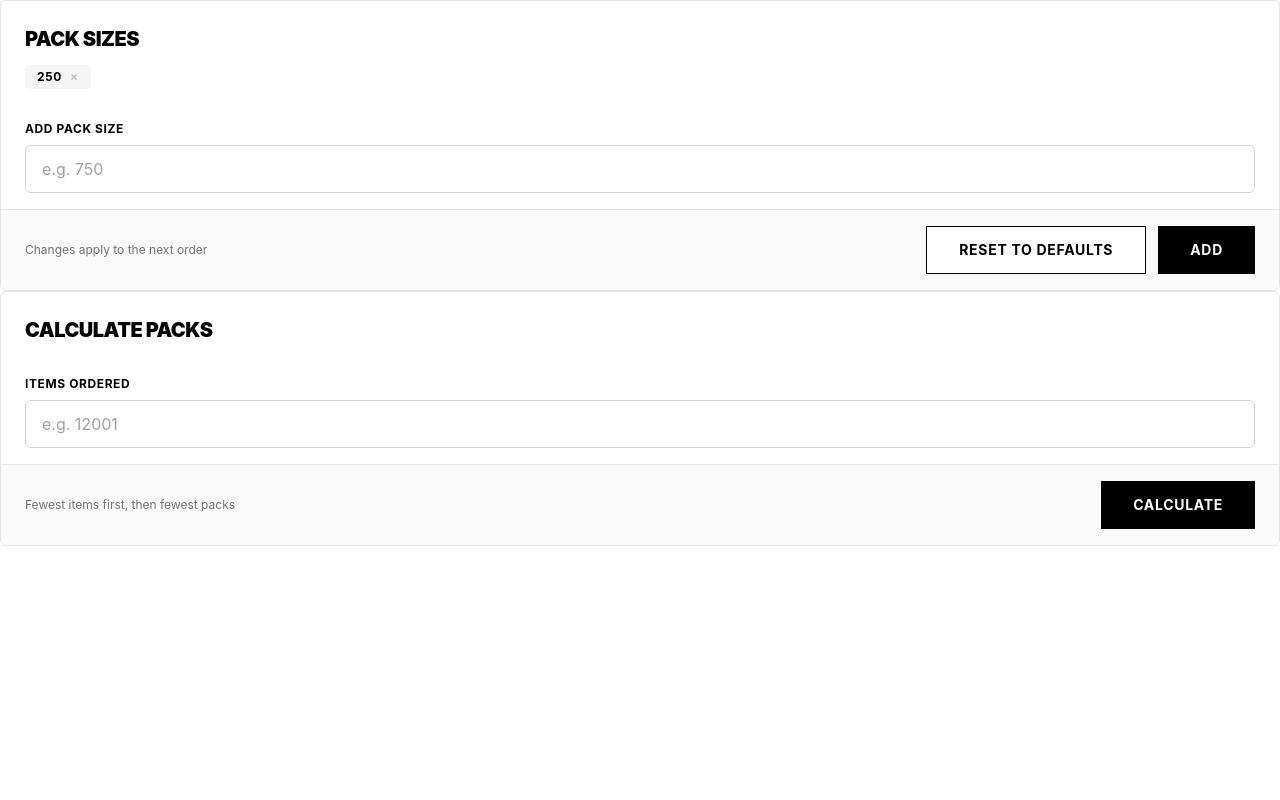
Test case: PackCalculator › shows the API error message
Type "2000000" into the number field labelled "Items ordered" at (640, 424), box [25,400,1255,448]
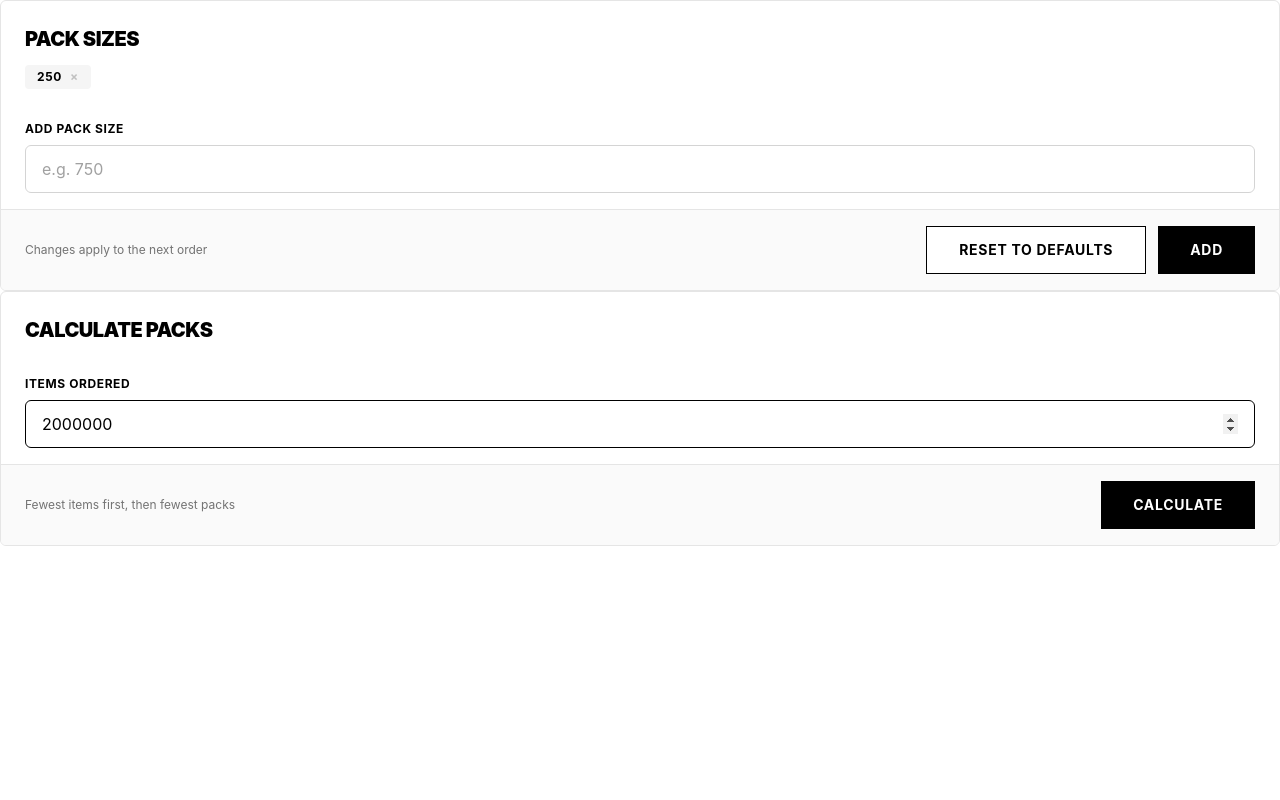
Click the button "Calculate" at (1178, 505), box [1101,481,1255,529]
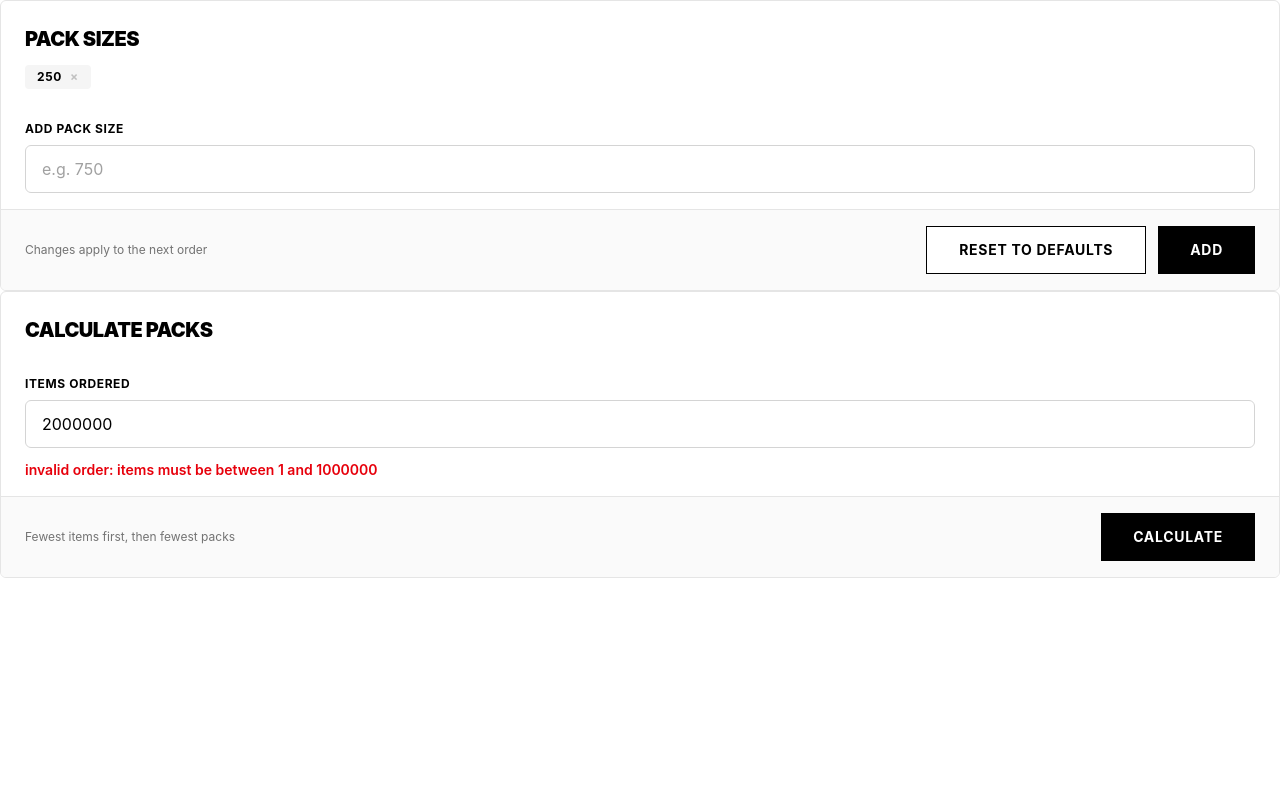
Check: the message shows "items must be between 1 and 1000000", box [25,461,378,478]
